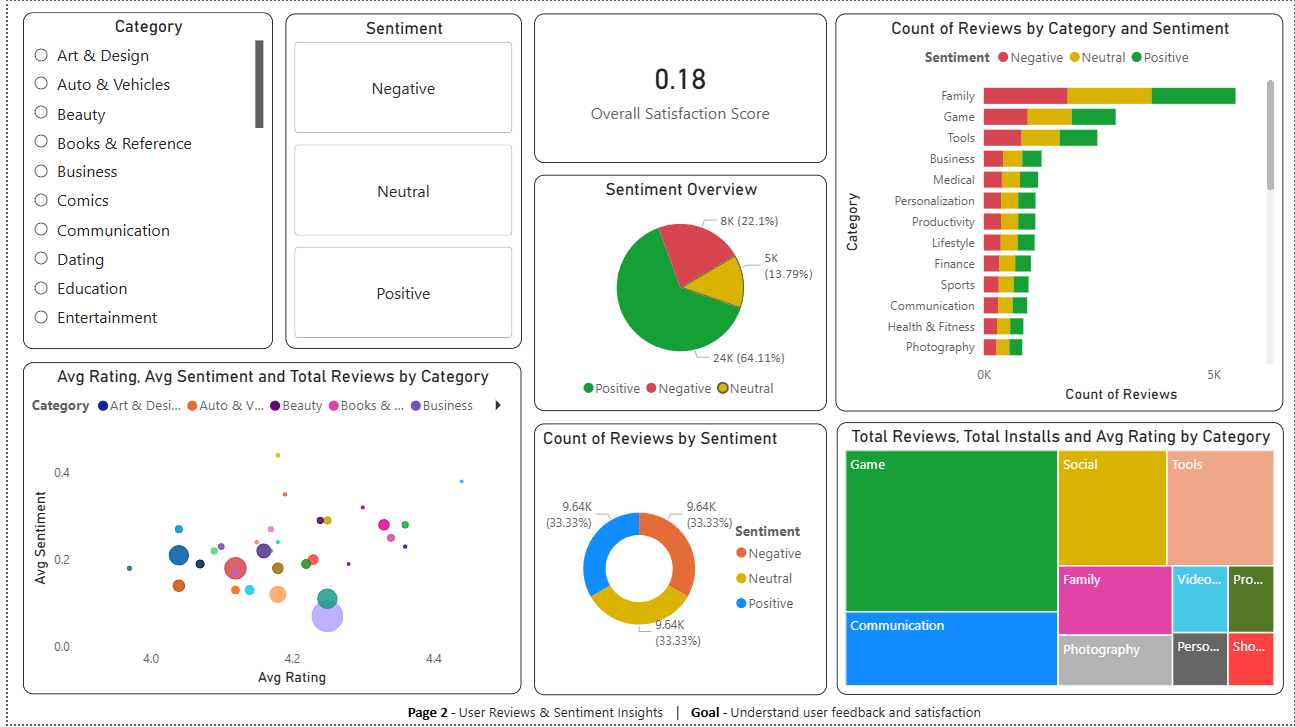

This screenshot's page, from the dashboard's own definition file:
{"tool":"powerbi","page":{"name":"Page 2 - User Reviews & Sentiment Insights","canvas":[1280,720],"ordinal":1},"visuals":[{"type":"textbox","box":[356.5,697.8,652.3,22.8],"z":0},{"type":"pieChart","title":"Sentiment Overview","fields":{"Category":["User_Reviews.Sentiment"],"Y":["User_Reviews.Sentiment Count"]},"box":[523.3,172.9,291.3,235.1],"z":1000},{"type":"barChart","fields":{"Category":["Play_Store_Data.Category"],"Series":["User_Reviews.Sentiment"],"Y":["CountNonNull(Play_Store_Data.Reviews)"]},"box":[823.7,12.1,446,395.9],"z":2000},{"type":"scatterChart","fields":{"X":["Play_Store_Data.Avg Rating"],"Y":["Play_Store_Data.Avg Sentiment"],"Series":["Play_Store_Data.Category"],"Size":["Play_Store_Data.Total Reviews"]},"box":[15.2,359.5,496,330.7],"z":3000},{"type":"donutChart","fields":{"Category":["User_Reviews.Sentiment"],"Y":["CountNonNull(Play_Store_Data.Reviews)"]},"box":[523.3,420.2,291.3,270],"z":4000},{"type":"treemap","fields":{"Group":["Play_Store_Data.Category"],"Values":["Play_Store_Data.Total Reviews"]},"box":[825.2,418.7,444.5,271.5],"z":5000},{"type":"card","fields":{"Values":["User_Reviews.Overall Satisfaction Score"]},"box":[523.3,12.1,291.3,148.7],"z":6000},{"type":"advancedSlicerVisual","fields":{"Values":["User_Reviews.Sentiment"]},"box":[276.1,12.1,235.1,333.7],"z":7000},{"type":"listSlicer","fields":{"Values":["Play_Store_Data.Category"]},"box":[15.2,10.6,248.8,335.2],"z":8000}]}

Visuals, with their boxes in screenshot pixels (x1, y1, x2, y2), scaled from the page's 1280x720 canvas onto the 1295x727 screenshot:
textbox: 361/705/1021/726
"Sentiment Overview" pieChart: 529/175/824/412
barChart - Play_Store_Data.Category x User_Reviews.Sentiment: 833/12/1285/412
scatterChart - Play_Store_Data.Avg Rating x Play_Store_Data.Avg Sentiment: 15/363/517/697
donutChart - User_Reviews.Sentiment x CountNonNull(Play_Store_Data.Reviews): 529/424/824/697
treemap - Play_Store_Data.Category x Play_Store_Data.Total Reviews: 835/423/1285/697
card - User_Reviews.Overall Satisfaction Score: 529/12/824/162
advancedSlicerVisual - User_Reviews.Sentiment: 279/12/517/349
listSlicer - Play_Store_Data.Category: 15/11/267/349
